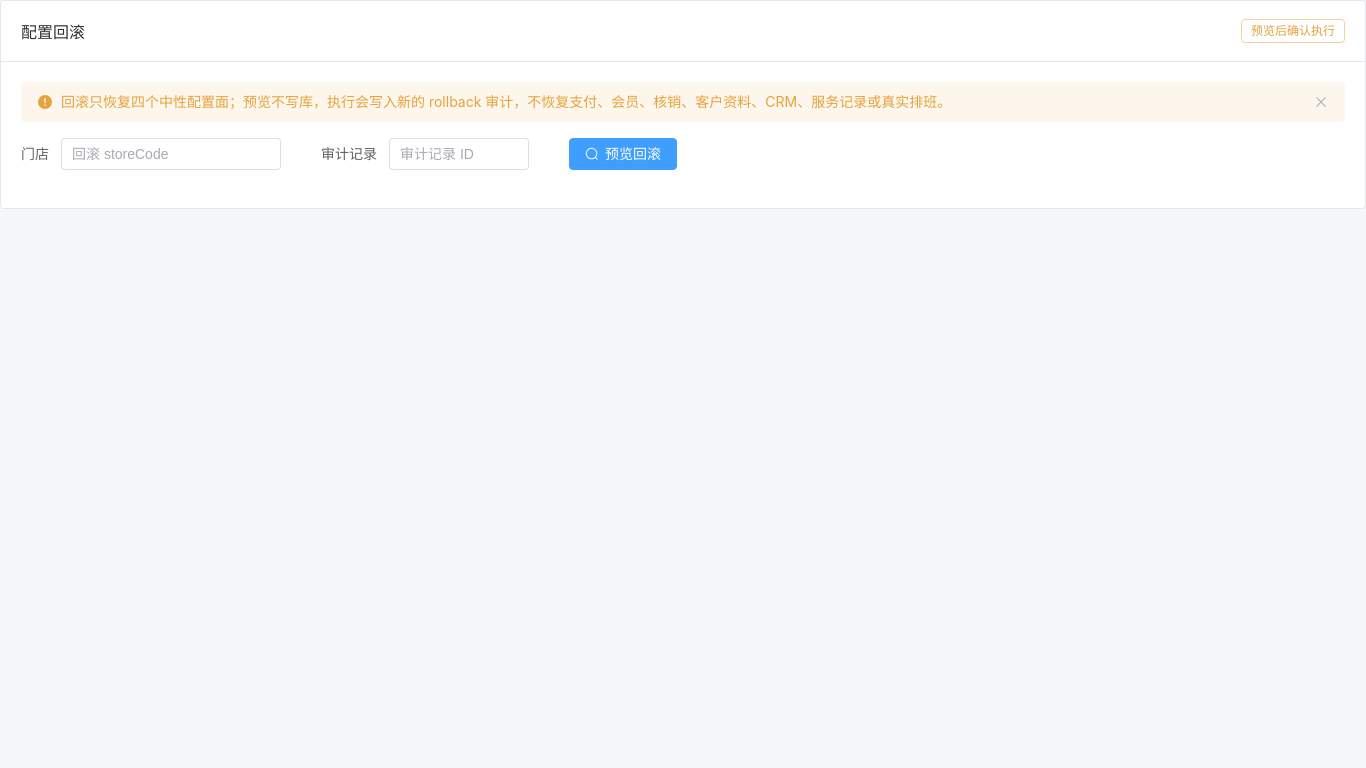
Test: StoreAppointmentConfigRollbackPanel › requires explicit confirmation before executing rollback
Type "store-config-001" into the field with placeholder "回滚 storeCode" at (171, 154), box [72,139,270,169]
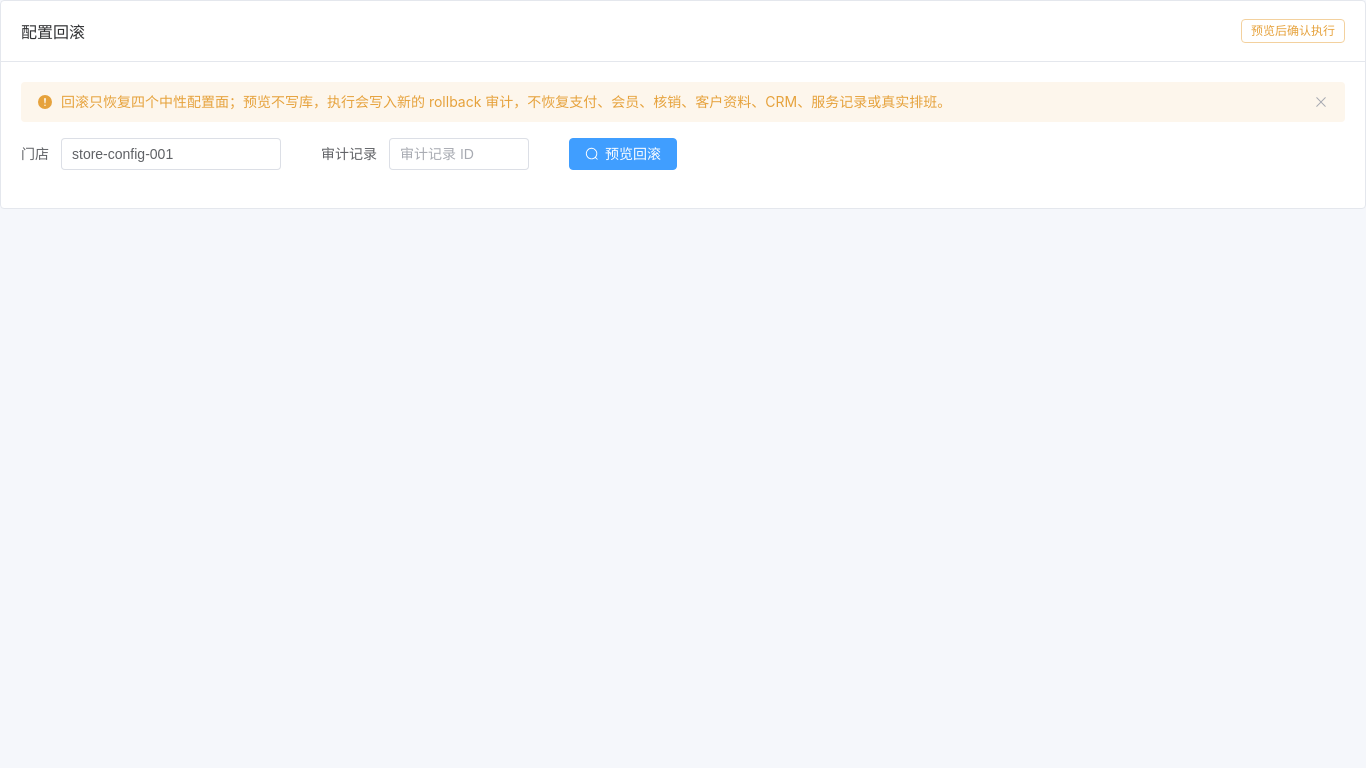
Type "9001" into the field with placeholder "审计记录 ID" at (459, 154), box [400,139,518,169]
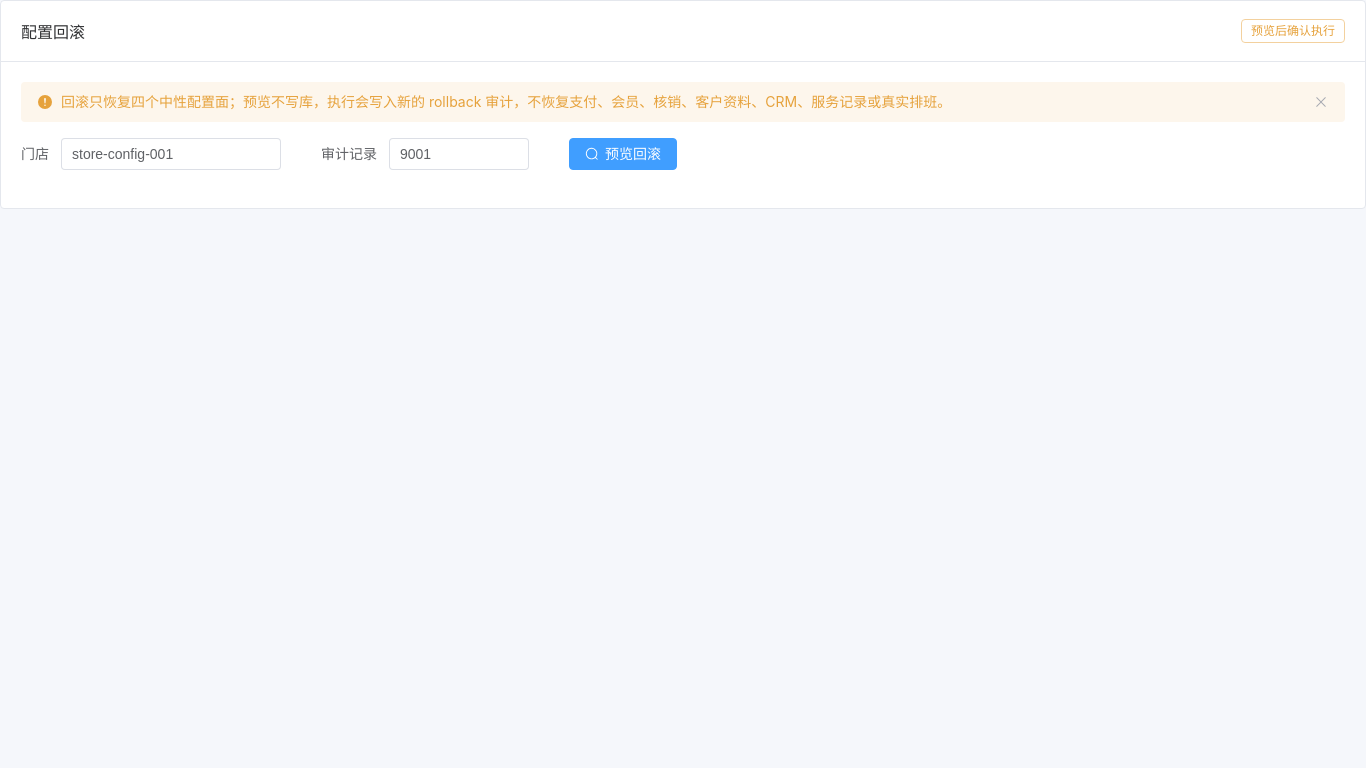
Click the button "预览回滚" at (623, 154), box [569,138,677,170]
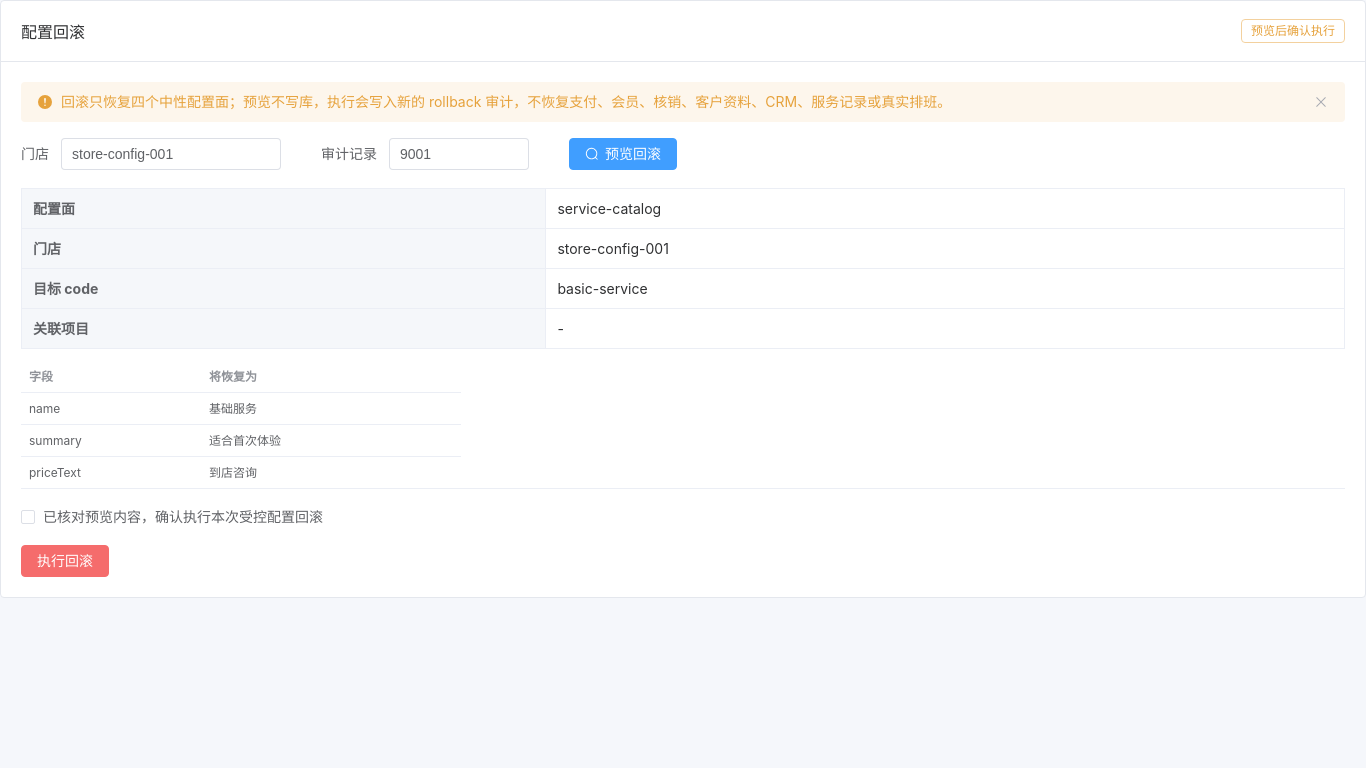
Click the button "执行回滚" at (65, 561), box [21,545,109,577]
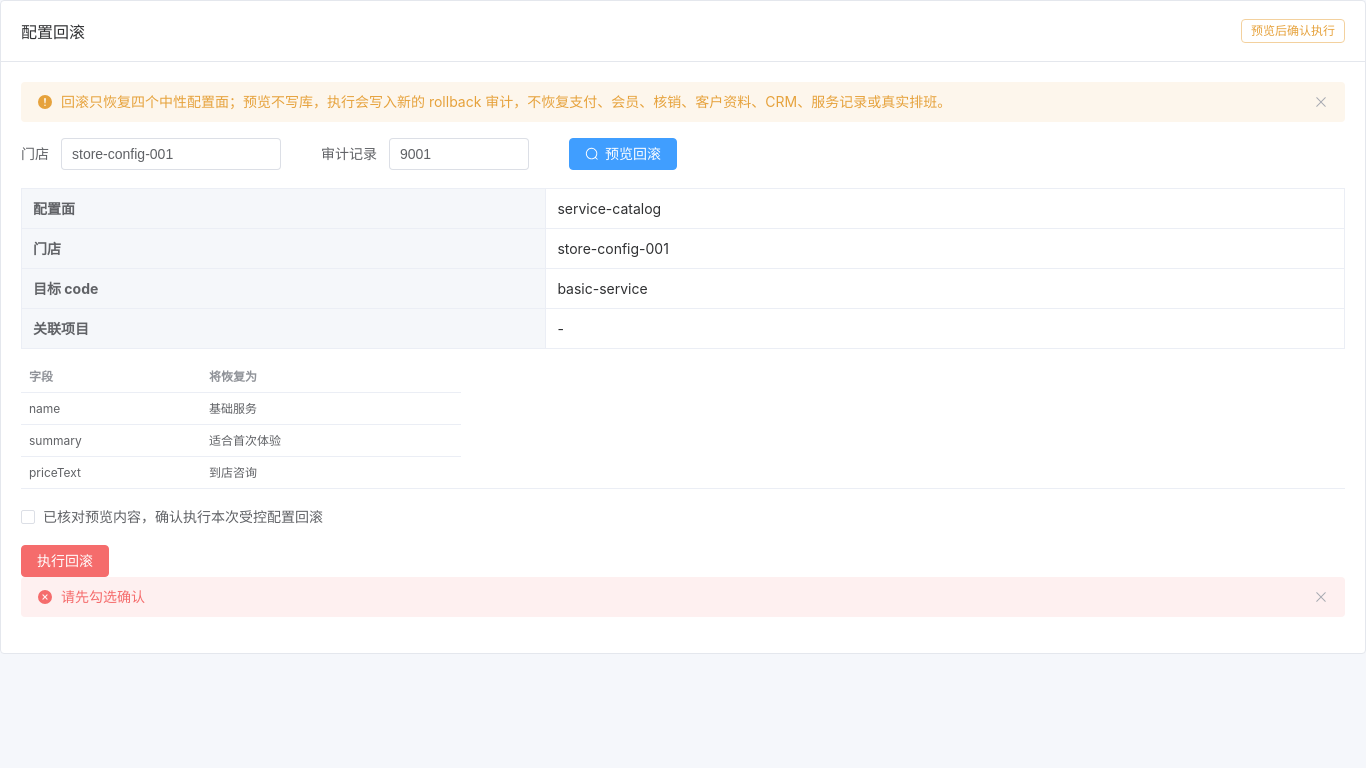
Expected: the text "请先勾选确认" is shown, [61,585,145,609]
Click the checkbox labelled "已核对预览内容，确认执行本次受控配置回滚" at (172, 516), box [21,508,323,525]
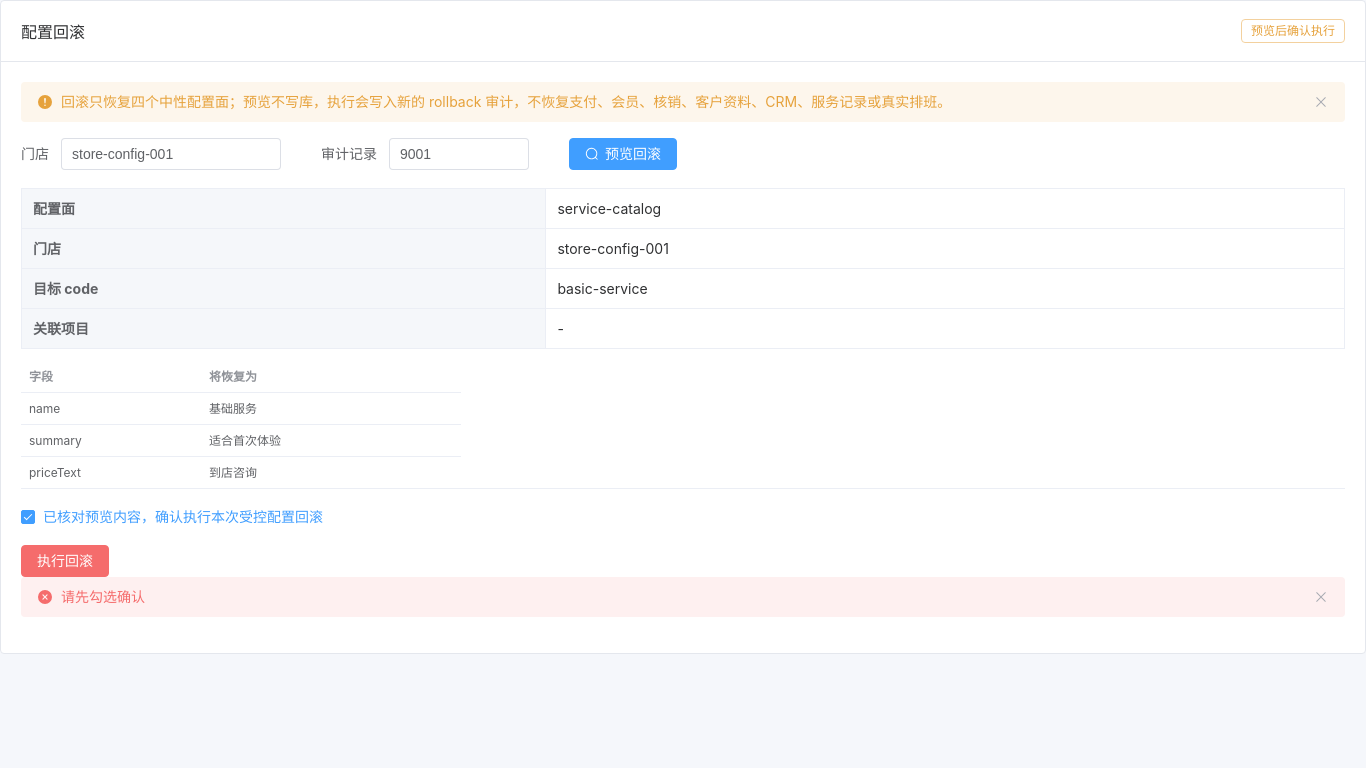
Click the button "执行回滚" at (65, 561), box [21,545,109,577]
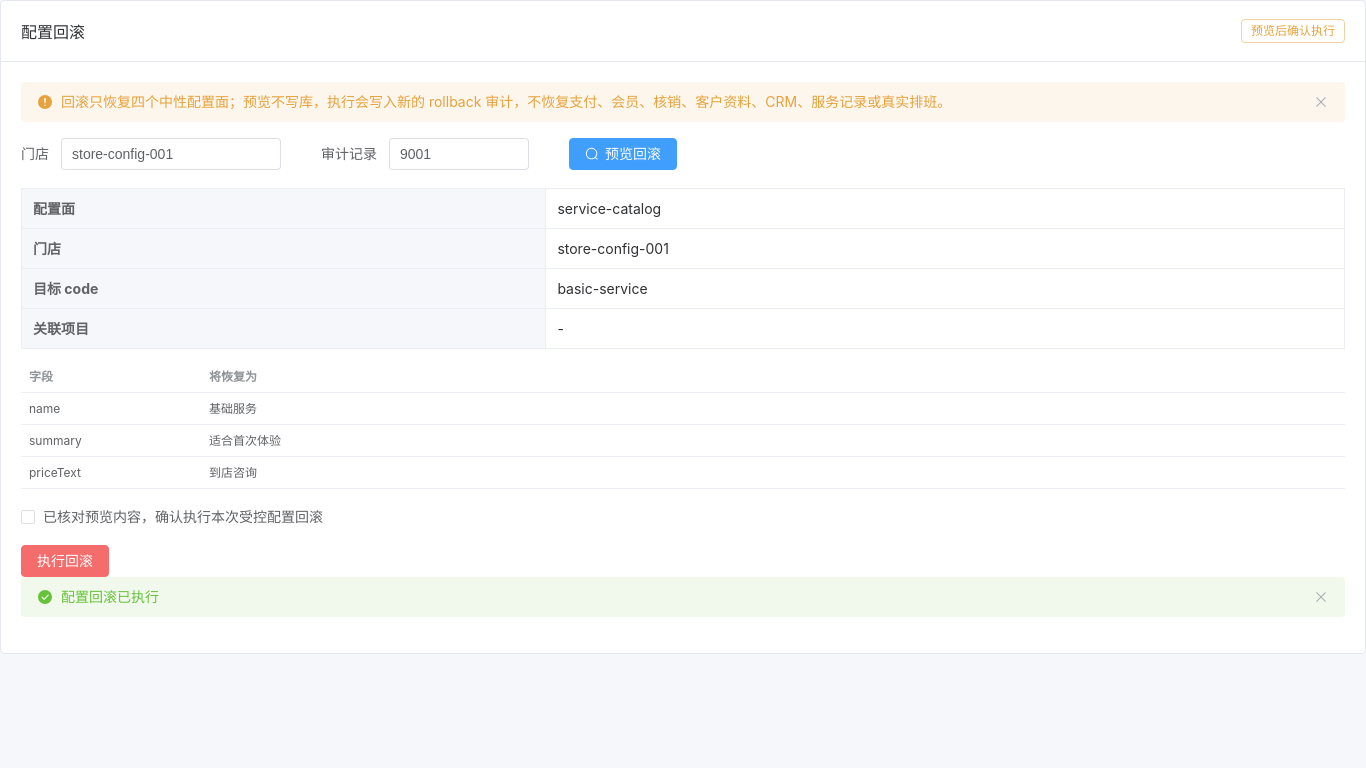
Expected: the text "配置回滚已执行" is shown, [61,585,159,609]
